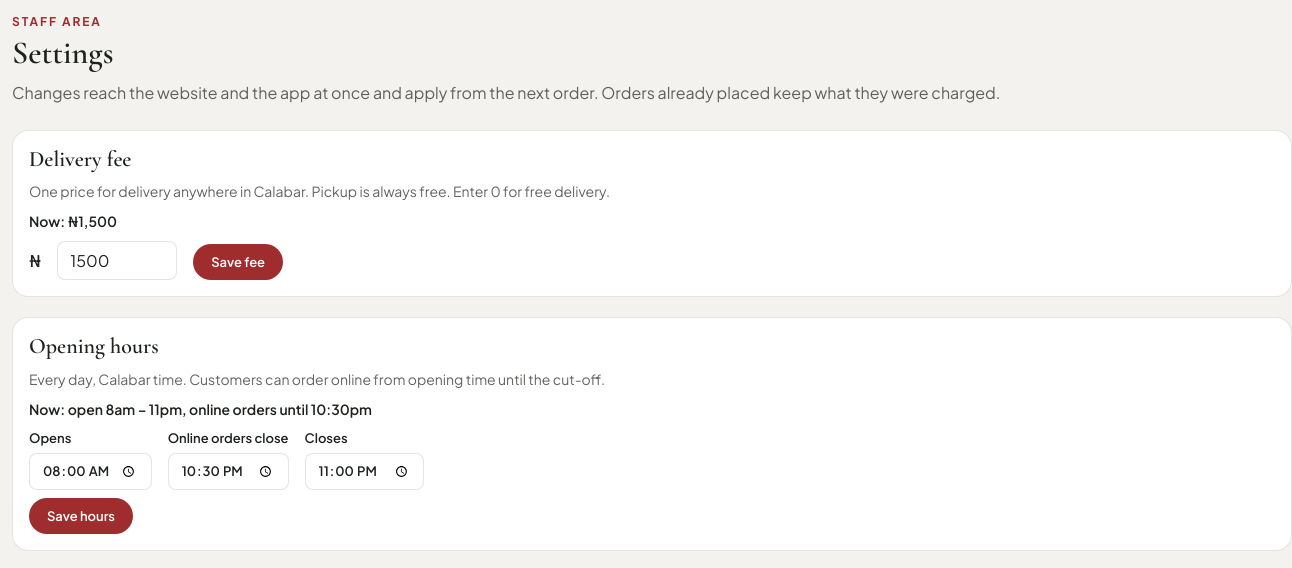
Test case: AdminSettingsView › delivery fee › allows free delivery
Replace the text in the field with test id "fee" with "0" at (117, 260), box [57,241,177,280]
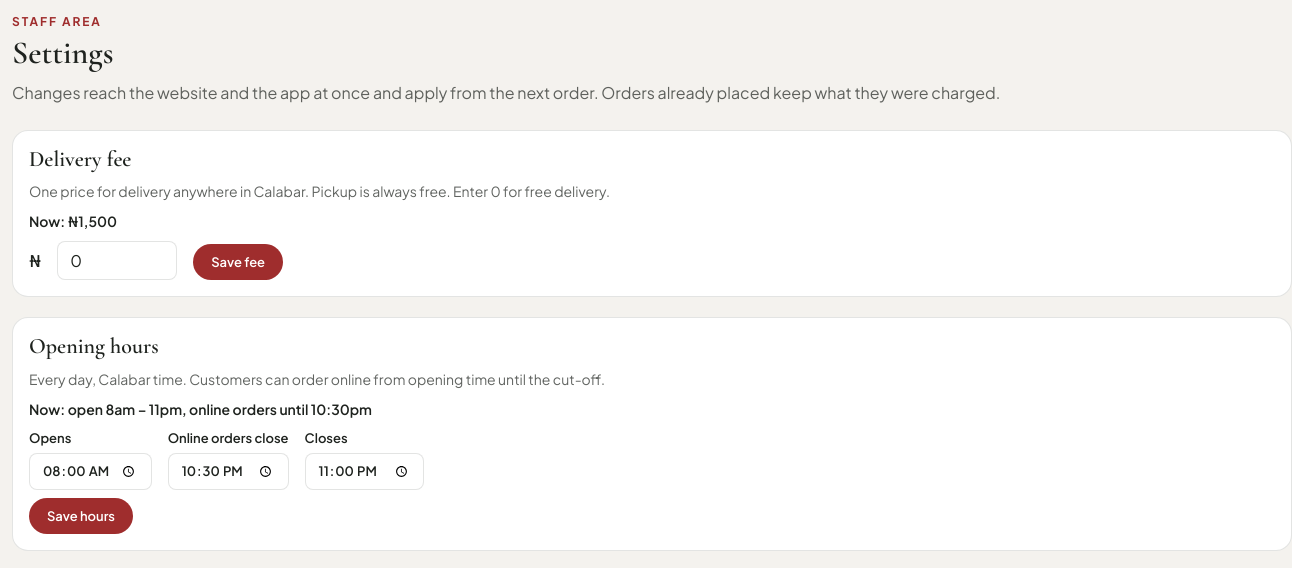
Submit the form with test id "fee-form", box [12,130,1291,297]
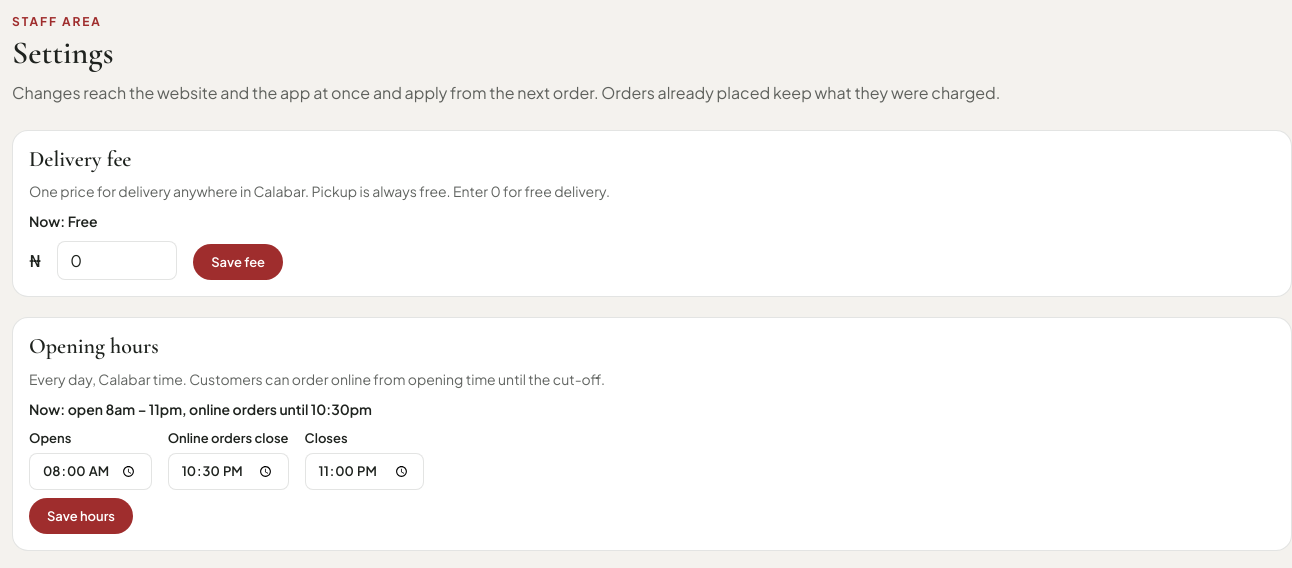
Now the text with test id "current-fee" reads "Now: Free", box [29,212,98,230]
